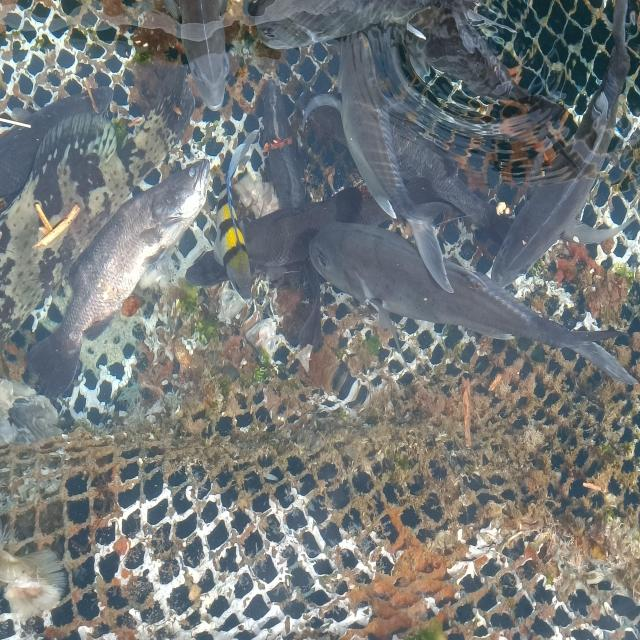ikan: (306, 219, 638, 388), (22, 156, 212, 406), (300, 29, 467, 294), (487, 0, 634, 289), (184, 128, 260, 302)
